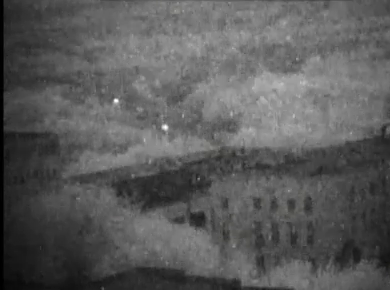Target: (115, 99, 168, 130)
